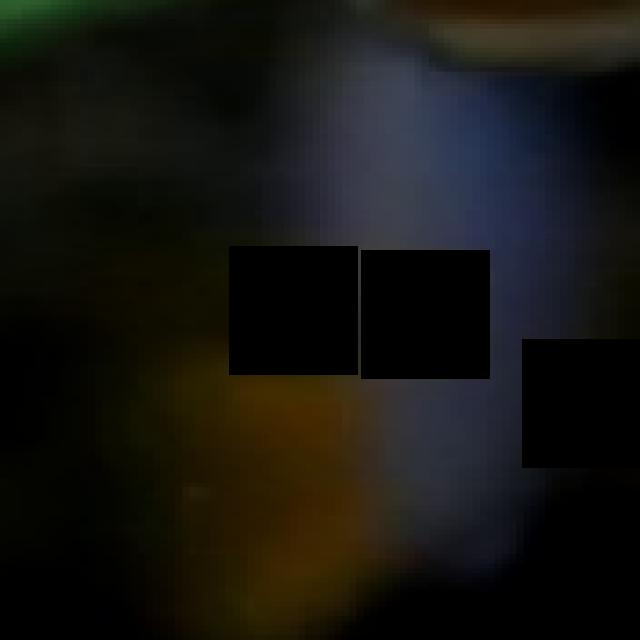fish: (7, 5, 640, 640)
